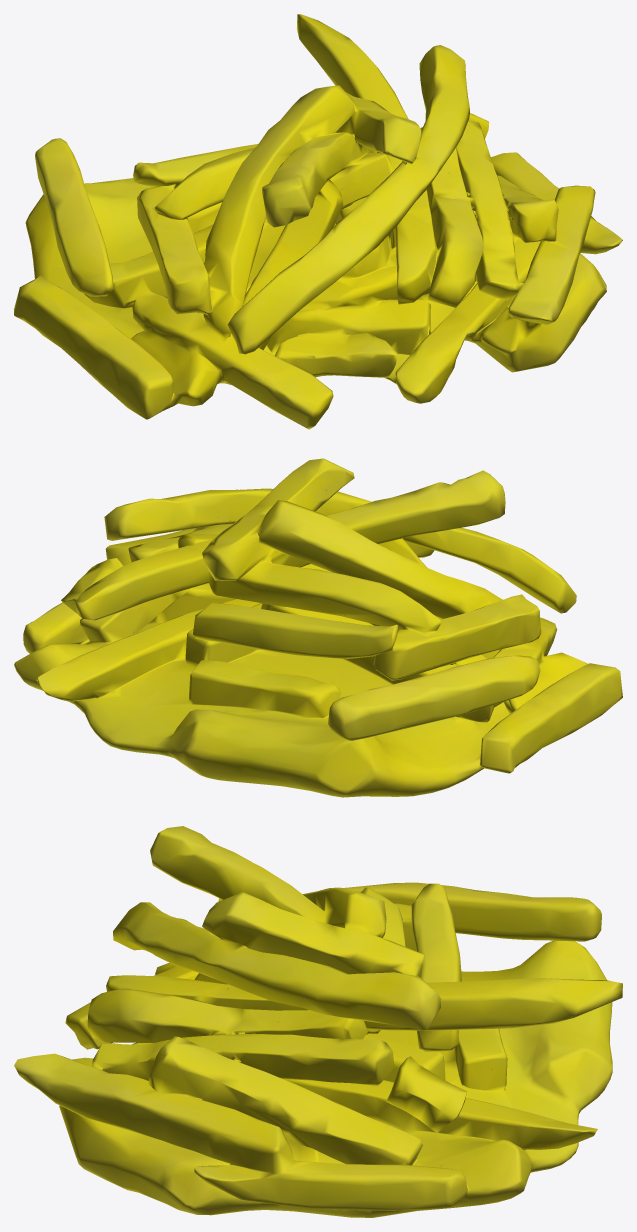
The model's file is PapaBastones.glb.
3 renders of one model, top to bottom at view 1: azimuth 30°, elevation 25°; view 2: azimuth 150°, elevation 25°; view 3: azimuth 270°, elevation 25°, orthographic. The views are drawn at different scales.
Parts seen in each view (by area): view 1: tripo_node_f00e2f9a-e41a-42fd-8ba3-a83cec05bdba; view 2: tripo_node_f00e2f9a-e41a-42fd-8ba3-a83cec05bdba; view 3: tripo_node_f00e2f9a-e41a-42fd-8ba3-a83cec05bdba.
Part boxes in pixels (bbox=[...]): tripo_node_f00e2f9a-e41a-42fd-8ba3-a83cec05bdba: bbox=[14, 14, 622, 429]; tripo_node_f00e2f9a-e41a-42fd-8ba3-a83cec05bdba: bbox=[14, 458, 622, 797]; tripo_node_f00e2f9a-e41a-42fd-8ba3-a83cec05bdba: bbox=[14, 826, 622, 1217].
Bounding box in the file's own units: 0.9809 × 0.4033 × 0.9357.
Materials: 1 (1 with a texture image).
